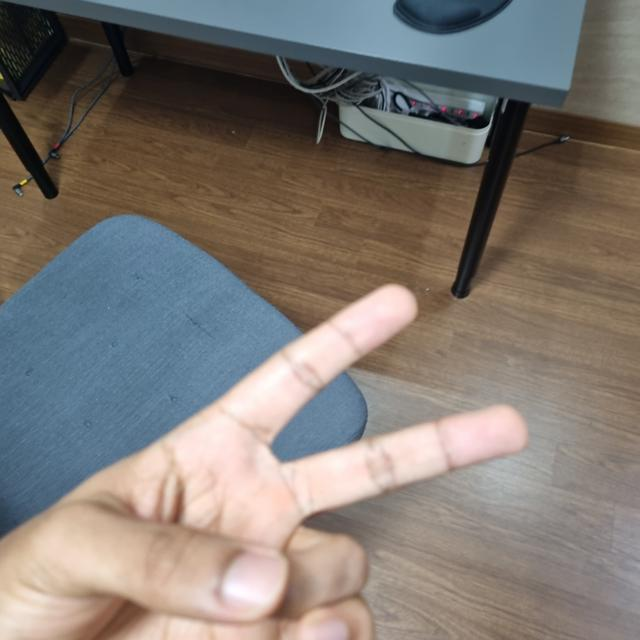Scissors: (2, 289, 519, 639)
